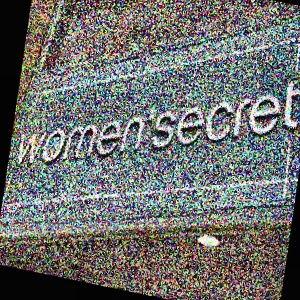women_secret: (23, 38, 300, 162)
